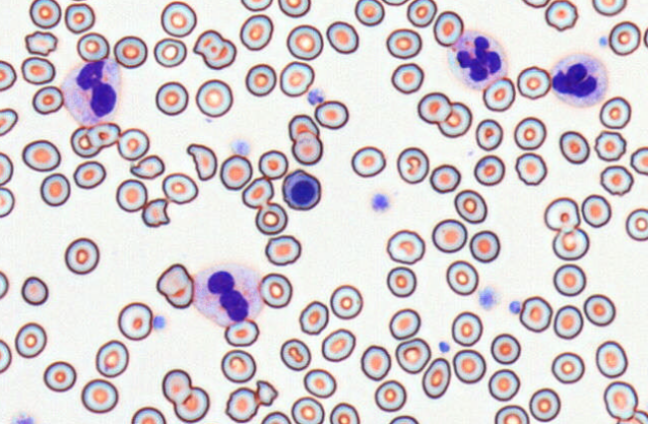GRAN: (57, 56, 123, 130), (190, 262, 264, 326), (446, 28, 507, 91), (550, 49, 610, 109)
LYM: (283, 169, 323, 213)
PLT: (479, 287, 501, 314), (370, 192, 391, 215), (230, 139, 250, 157), (11, 412, 34, 424), (437, 339, 454, 354), (309, 89, 324, 106), (508, 300, 524, 315), (151, 316, 166, 331), (599, 34, 610, 46)
RBC: (155, 263, 194, 308), (195, 78, 233, 117), (117, 301, 153, 340), (603, 380, 638, 420), (386, 229, 425, 264), (173, 386, 209, 423), (160, 0, 196, 37), (286, 24, 323, 60), (80, 378, 118, 413), (543, 196, 580, 231), (279, 60, 314, 97), (395, 337, 430, 374), (64, 237, 99, 274), (95, 339, 129, 377), (21, 139, 61, 171), (437, 101, 472, 137), (431, 218, 467, 253), (421, 357, 451, 399), (396, 146, 429, 184), (595, 340, 628, 378), (224, 386, 258, 422), (220, 349, 256, 383), (239, 14, 273, 50), (258, 272, 292, 308), (452, 348, 486, 384), (552, 227, 589, 260), (519, 295, 552, 332), (516, 65, 551, 99), (329, 284, 363, 319), (219, 154, 252, 190), (445, 259, 478, 295), (608, 20, 641, 56), (161, 172, 198, 204), (264, 234, 301, 266), (254, 201, 288, 235), (453, 189, 487, 223), (321, 328, 355, 362), (482, 76, 515, 111), (14, 322, 46, 358), (350, 145, 386, 177), (360, 344, 391, 381), (417, 91, 451, 124), (513, 116, 546, 150), (113, 35, 147, 68), (551, 351, 585, 384), (155, 81, 188, 115), (451, 311, 483, 346), (528, 387, 560, 422), (161, 368, 192, 404), (386, 28, 422, 59), (514, 152, 547, 185), (116, 127, 149, 160), (487, 368, 520, 401), (553, 263, 586, 296), (326, 20, 359, 53), (115, 178, 147, 212), (599, 164, 633, 196), (390, 62, 424, 94), (298, 300, 329, 335), (433, 10, 463, 46), (241, 176, 274, 208), (279, 338, 311, 371), (43, 360, 76, 392), (374, 379, 406, 412), (599, 96, 631, 129), (583, 293, 615, 326), (291, 131, 322, 165), (544, 0, 578, 31), (39, 172, 70, 206), (559, 130, 590, 164), (553, 304, 583, 339), (223, 318, 259, 347), (473, 154, 505, 186), (388, 308, 420, 340), (204, 41, 236, 73), (245, 63, 276, 96), (581, 194, 611, 228), (314, 99, 348, 129), (70, 125, 101, 157), (594, 130, 626, 161), (469, 230, 500, 262), (76, 32, 109, 62), (303, 368, 336, 398), (153, 37, 186, 67), (64, 2, 95, 33), (73, 160, 106, 189), (21, 56, 55, 84), (429, 163, 460, 193), (386, 266, 416, 297), (490, 333, 520, 364), (29, 0, 61, 29), (290, 396, 324, 423), (258, 149, 288, 179), (32, 85, 63, 114), (475, 118, 503, 150), (87, 121, 120, 148), (288, 113, 319, 141), (406, 0, 437, 27), (21, 275, 48, 305), (354, 0, 384, 26), (625, 207, 647, 241), (494, 404, 529, 423), (329, 402, 360, 423), (130, 406, 166, 423), (591, 0, 627, 16), (277, 0, 310, 17), (0, 107, 18, 136), (0, 59, 16, 91), (630, 146, 647, 175), (0, 151, 13, 185), (0, 186, 14, 217), (616, 409, 647, 423), (0, 338, 12, 373), (260, 410, 291, 423), (240, 0, 272, 11), (388, 414, 419, 423), (0, 270, 9, 299), (521, 0, 549, 8), (382, 0, 408, 6), (643, 25, 648, 48)
Schistocyte: (185, 143, 218, 182), (141, 198, 171, 229), (24, 31, 58, 56), (130, 155, 164, 179), (193, 29, 221, 54), (255, 380, 278, 407)
